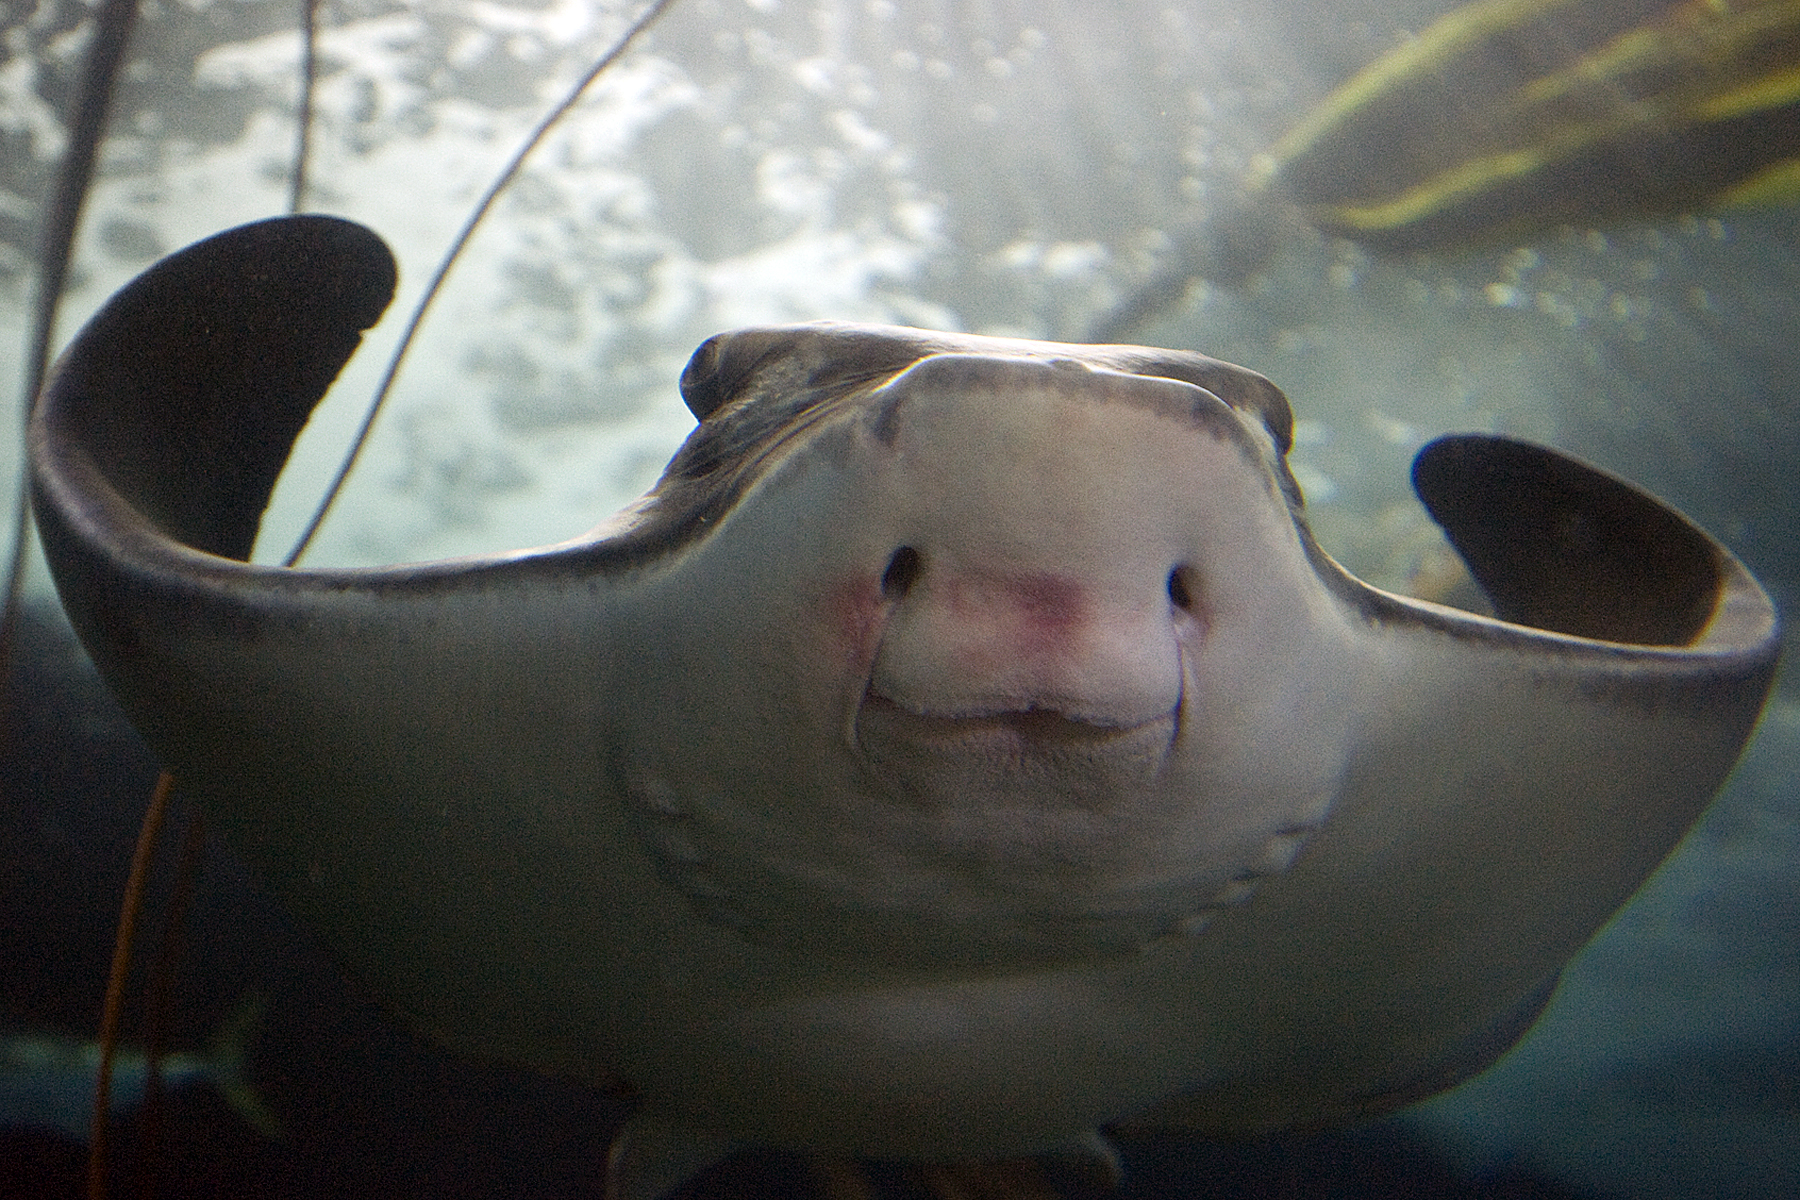Bat Ray: (31, 103, 1773, 1054)
